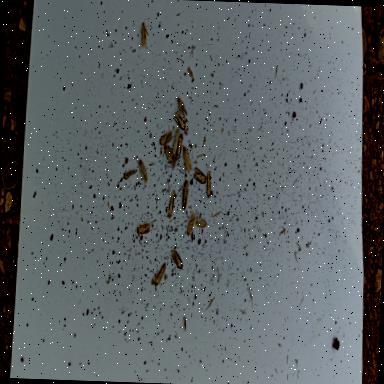pbw: (152, 262, 165, 291), (181, 144, 192, 176), (133, 222, 151, 241), (162, 144, 176, 168), (137, 156, 149, 184), (170, 250, 184, 274), (180, 180, 190, 212), (186, 210, 196, 240), (172, 111, 187, 131), (205, 168, 213, 202), (167, 189, 175, 221), (158, 130, 173, 147), (172, 128, 181, 156), (192, 166, 206, 184), (175, 96, 187, 116), (140, 20, 148, 48), (122, 171, 135, 184), (176, 134, 182, 162), (185, 64, 195, 80), (195, 219, 207, 230)
